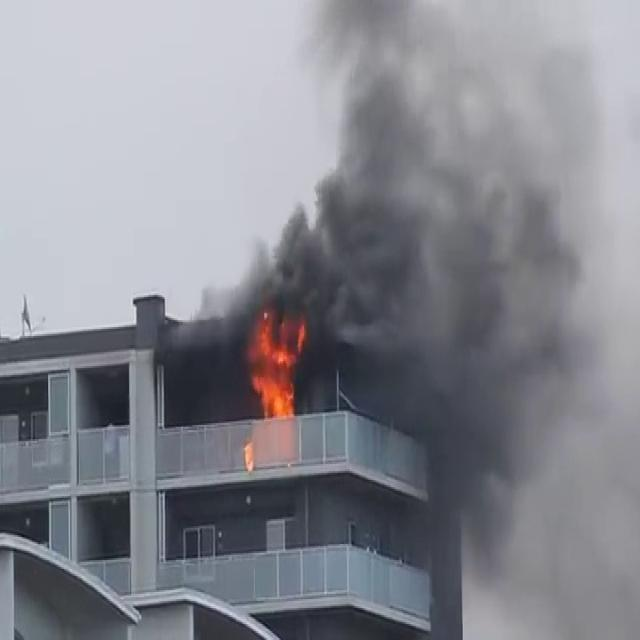Fire: (242, 307, 307, 422)
Smoke: (231, 0, 639, 539)
